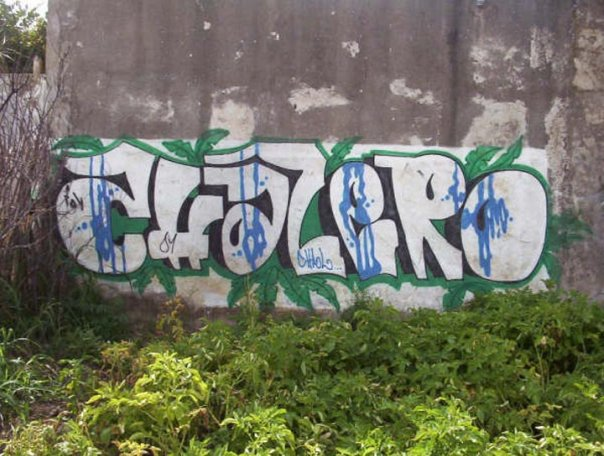graffity: (49, 128, 596, 324)
